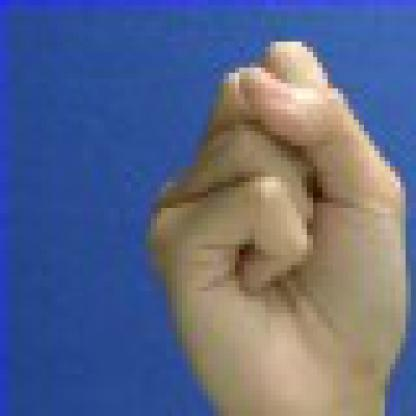zero: (125, 21, 411, 411)
